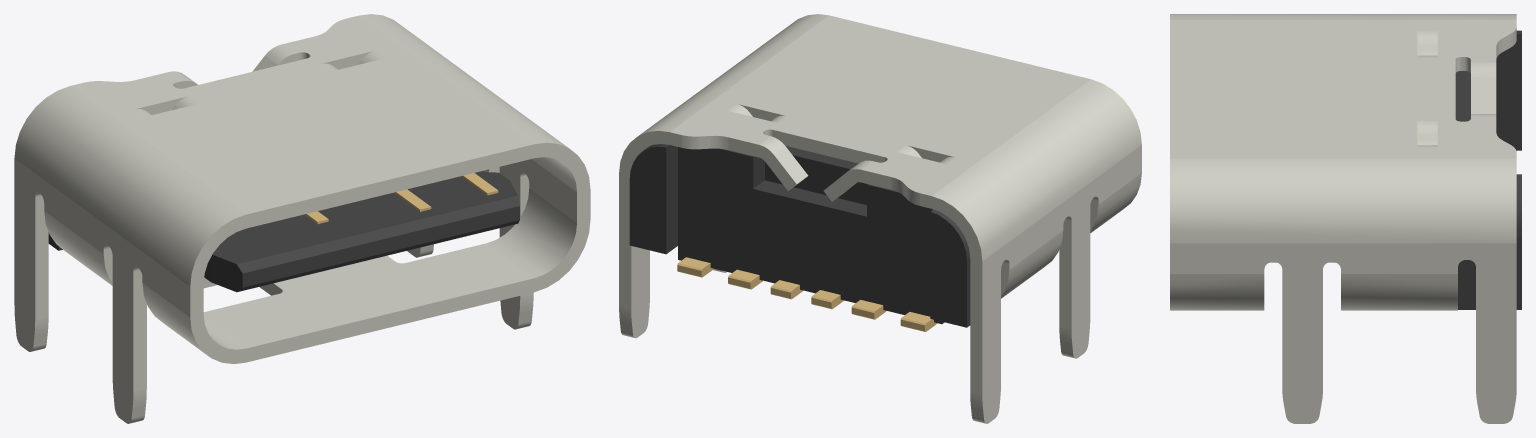
Rendered from kc-usb_c_receptacle_gct_usb4125-xx-x-0190_6p_topmnt_horizontal.glb.
3 views of the same model, side by side, from view 1: azimuth 30°, elevation 25°; view 2: azimuth 150°, elevation 25°; view 3: azimuth 270°, elevation 25° (orthographic). The views are drawn at different scales.
Parts seen in each view (by area): view 1: 0.6666666666666666_0.6666666666666666_0.5833333333333334_0.8, 0.08333333333333333_0.08333333333333333_0.08333333333333333_, 0.75_0.5_0.25_0.9; view 2: 0.6666666666666666_0.6666666666666666_0.5833333333333334_0.8, 0.08333333333333333_0.08333333333333333_0.08333333333333333_, 0.75_0.5_0.25_0.9; view 3: 0.6666666666666666_0.6666666666666666_0.5833333333333334_0.8, 0.08333333333333333_0.08333333333333333_0.08333333333333333_.
Part boxes in pixels (box(x1,y1,x2,y2)): 0.6666666666666666_0.6666666666666666_0.5833333333333334_0.8: box(14, 14, 590, 423); 0.08333333333333333_0.08333333333333333_0.08333333333333333_: box(48, 171, 519, 292); 0.75_0.5_0.25_0.9: box(304, 173, 498, 224); 0.6666666666666666_0.6666666666666666_0.5833333333333334_0.8: box(619, 14, 1141, 423); 0.08333333333333333_0.08333333333333333_0.08333333333333333_: box(629, 144, 970, 327); 0.75_0.5_0.25_0.9: box(677, 257, 937, 331); 0.6666666666666666_0.6666666666666666_0.5833333333333334_0.8: box(1170, 14, 1516, 423); 0.08333333333333333_0.08333333333333333_0.08333333333333333_: box(1455, 30, 1521, 309).
Bounding box in the file's own units: 0.894 × 0.516 × 0.69.
